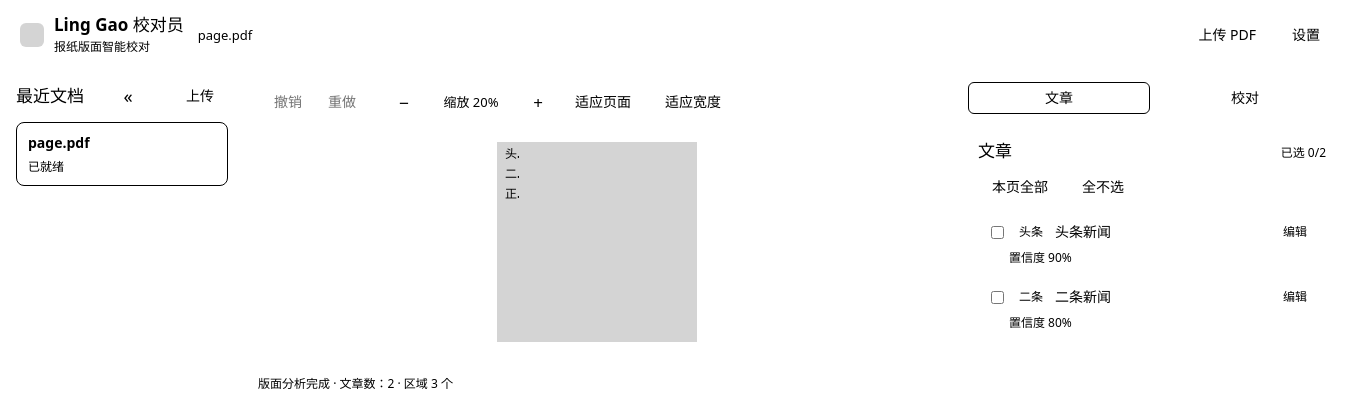
Test: App tabs and narrow drawer › switches between the 文章 and 校对 tabs and preserves the selection
This screenshot has width=1355, height=406.
Earlier steps of the test are not shown.
Later steps or results of the test are not shown.
Check: the element showing "文章 校对" is shown, box [966,80,1338,116]
Click the checkbox labelled "头条 头条新闻" at x=998, y=232, box [991,226,1004,238]
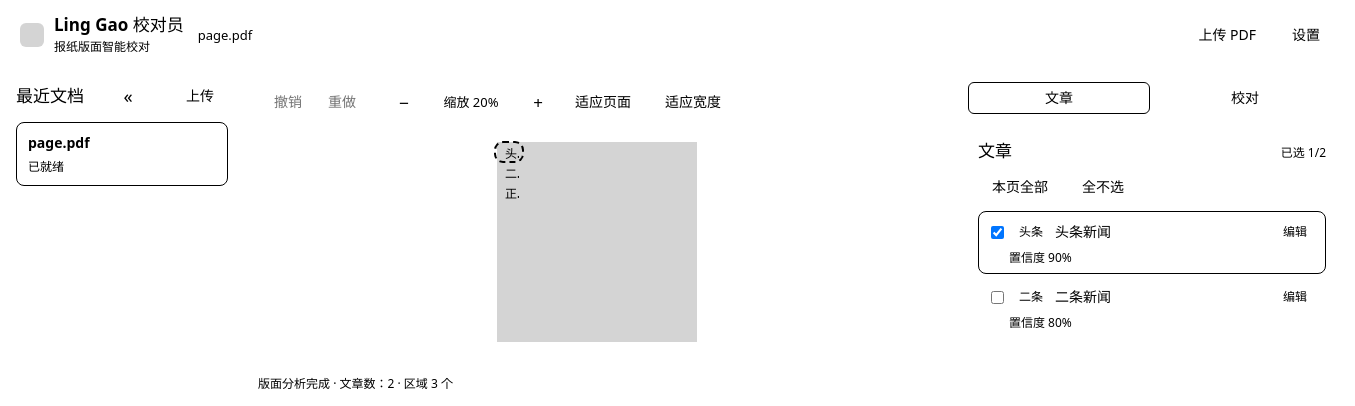
Click the tab "校对" at x=1245, y=98, box [1154,82,1336,114]
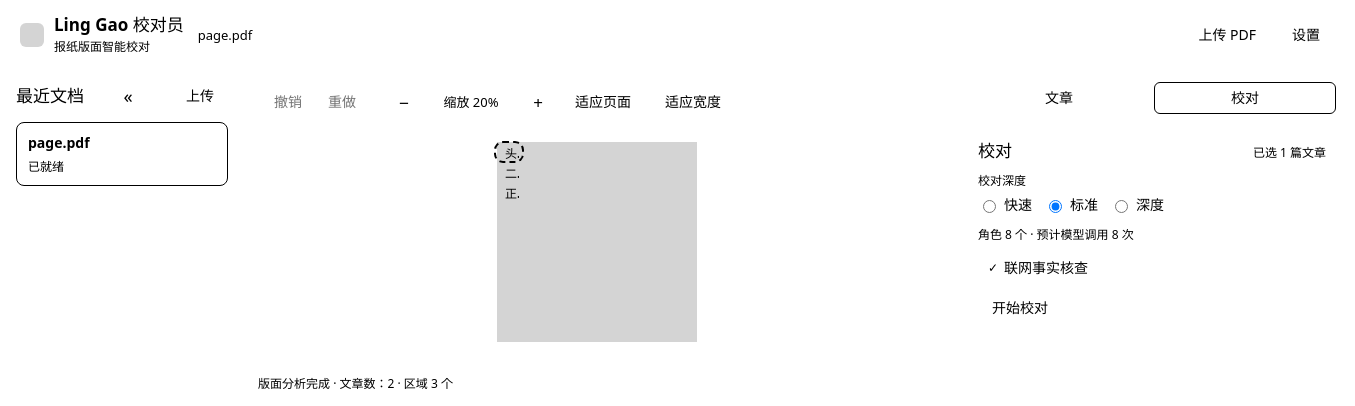
Click the tab "文章" at x=1059, y=98, box [968,82,1150,114]
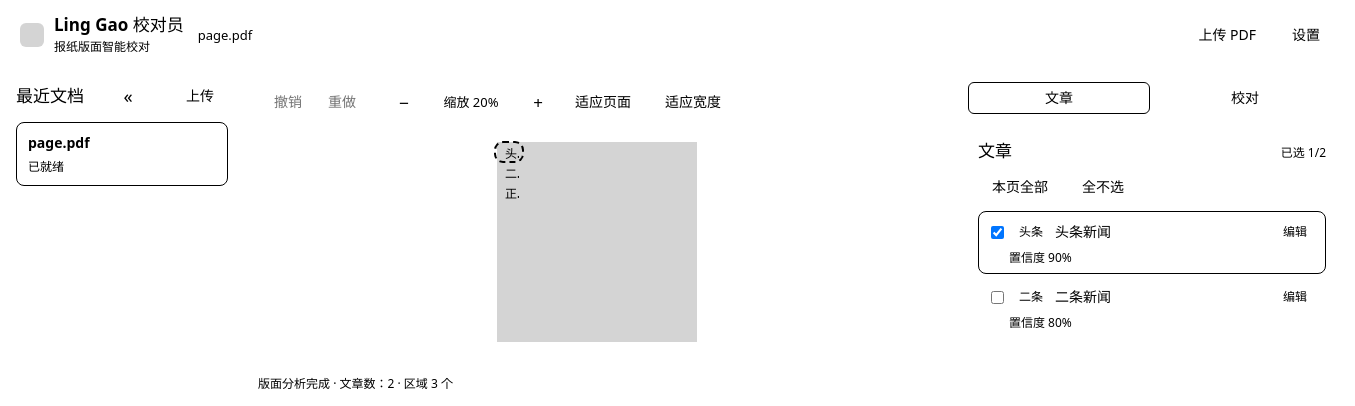
Check: the checkbox labelled "头条 头条新闻" is checked, box [991,226,1004,238]
